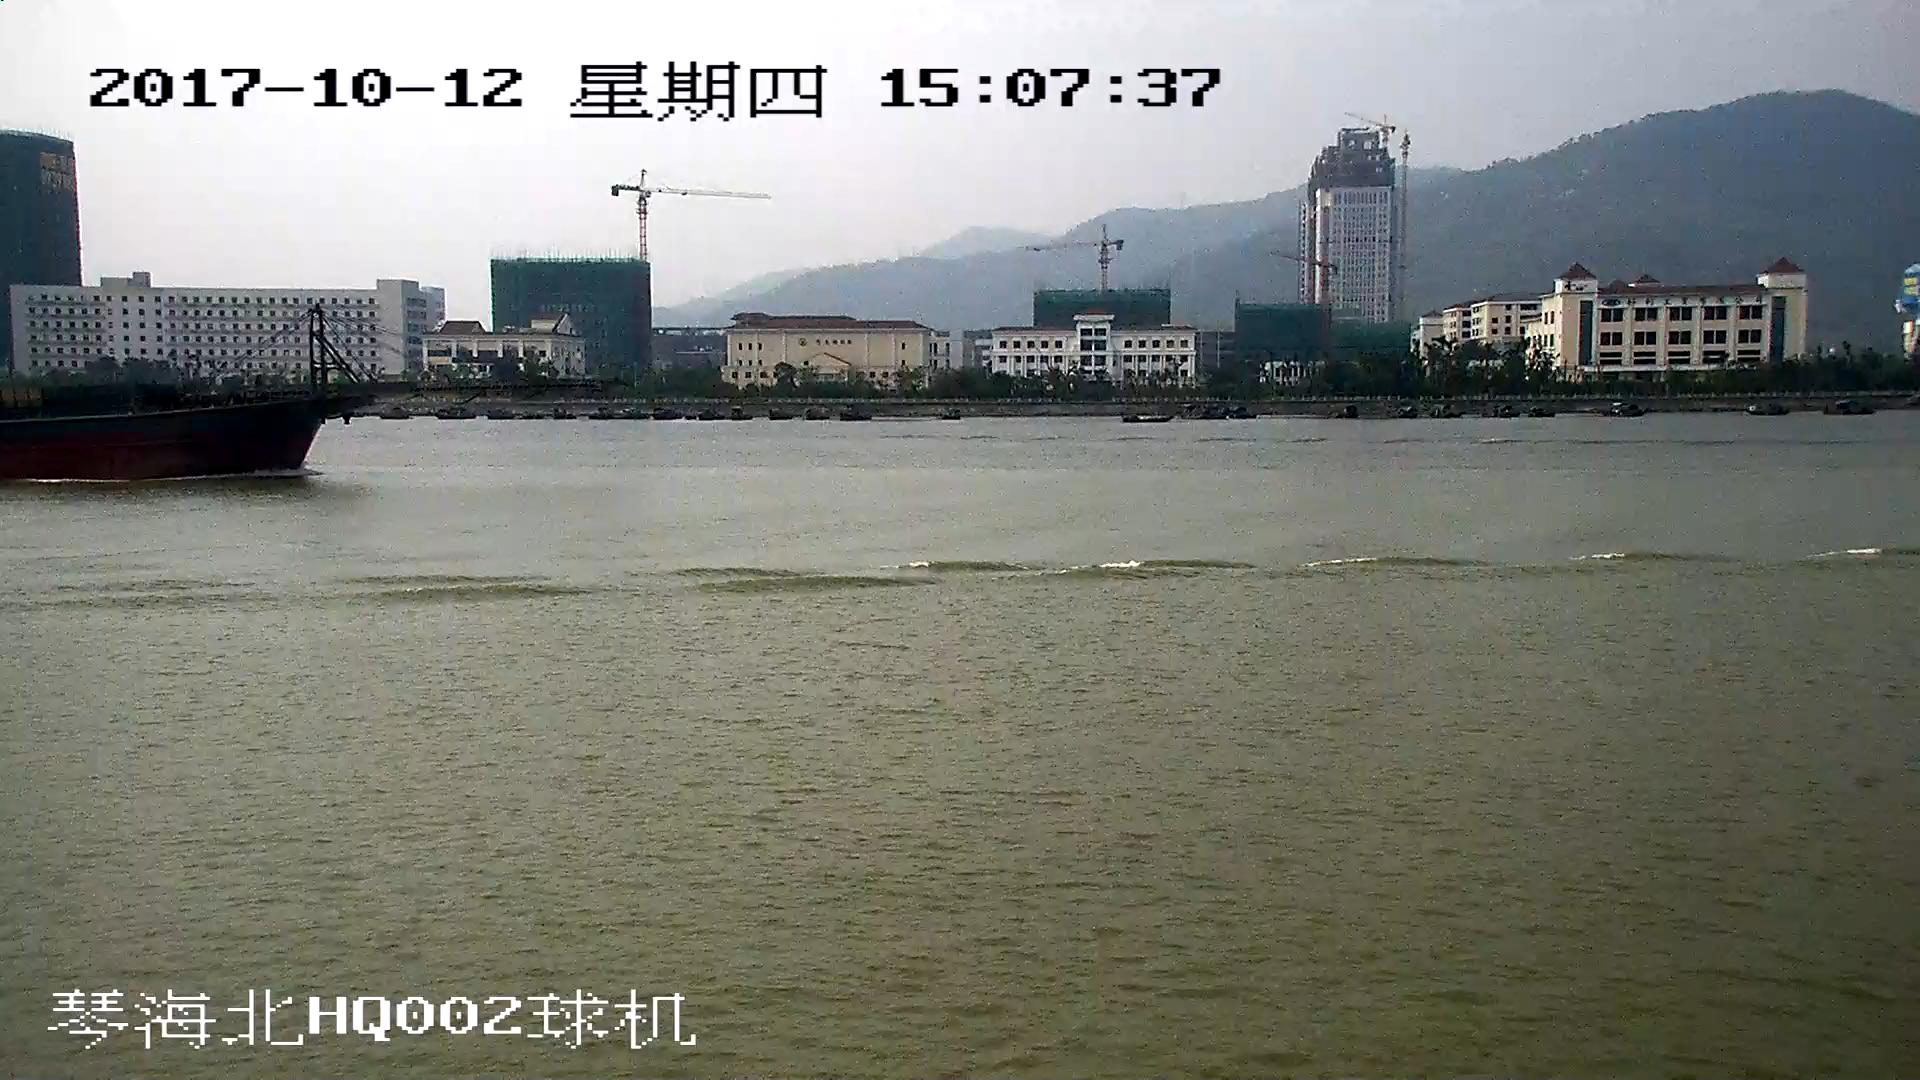bulk cargo carrier: (1, 305, 521, 484)
